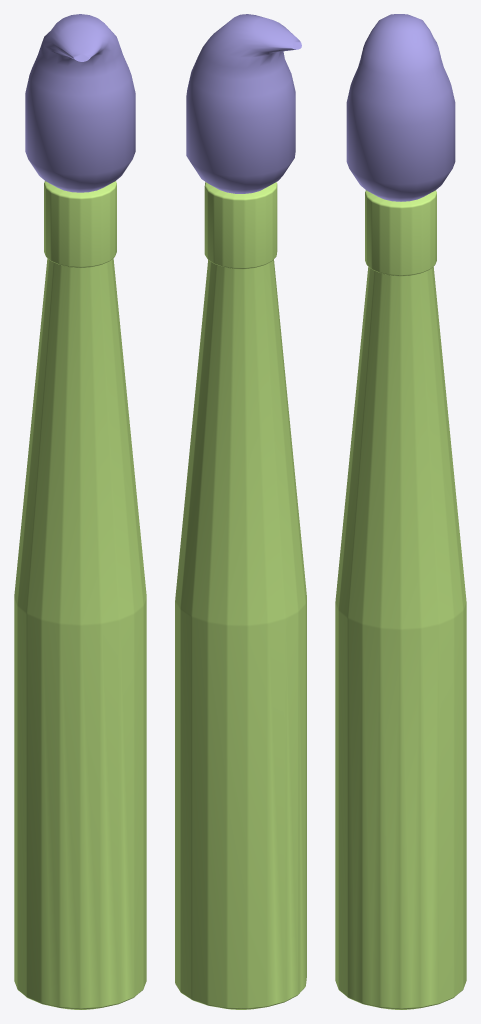
The picture shows the model from 3 angles, left to right: view 1: azimuth 90°, elevation 25°; view 2: azimuth 150°, elevation 25°; view 3: azimuth 270°, elevation 25°; orthographic projection.
Visible parts, largest first — view 1: split_parent_1, Object_2; view 2: split_parent_1, Object_2; view 3: split_parent_1, Object_2.
Boxes of the visible parts, x1,y1,x2,y2 form: split_parent_1: [14, 181, 146, 1009]; Object_2: [25, 14, 135, 192]; split_parent_1: [175, 182, 306, 1009]; Object_2: [186, 14, 301, 193]; split_parent_1: [335, 190, 466, 1009]; Object_2: [346, 14, 455, 201].
Bounding box in the file's own units: 0.1232 × 1 × 0.1218.
